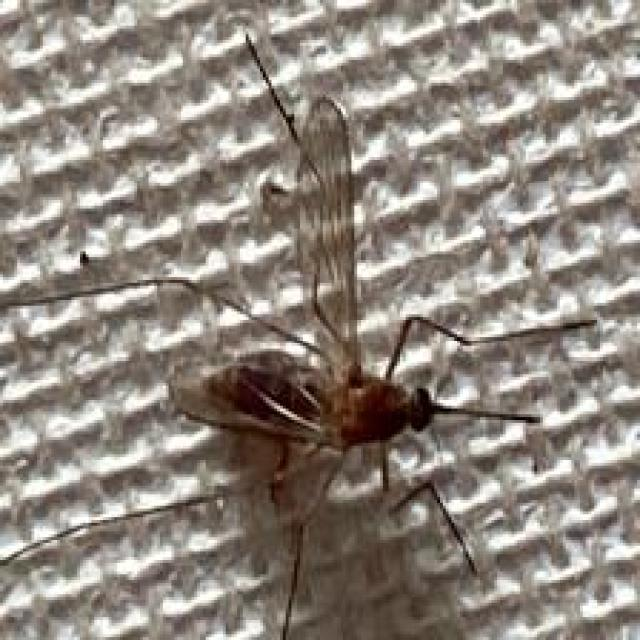Culex: (0, 28, 597, 640)
